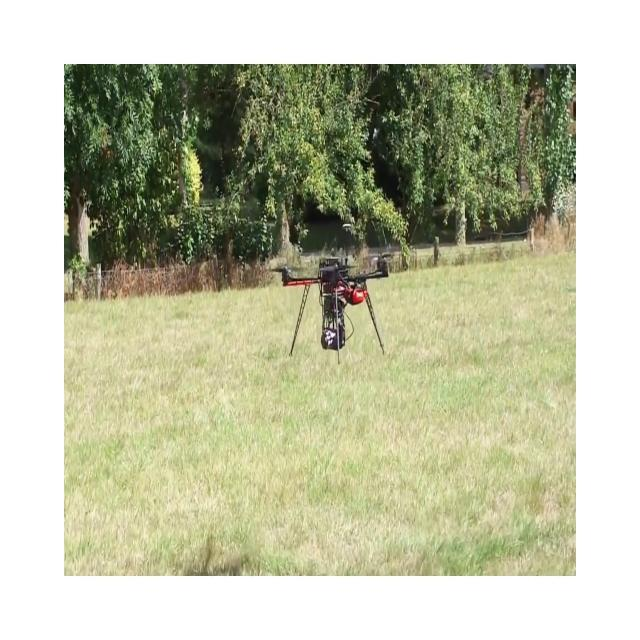drone: (270, 250, 390, 364)
